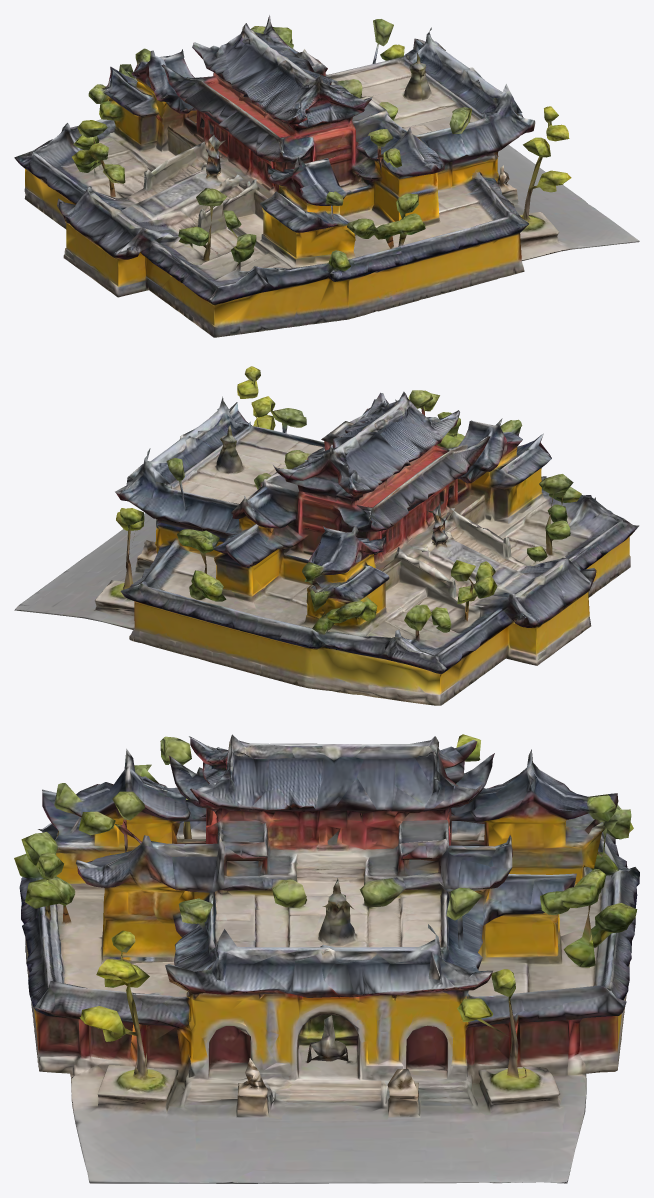
Rendered from preview.8a3168870452.glb.
The picture shows the model from 3 angles, top to bottom: view 1: azimuth 30°, elevation 25°; view 2: azimuth 150°, elevation 25°; view 3: azimuth 270°, elevation 25°; orthographic projection. The views are drawn at different scales.
Visible parts, largest first — view 1: tripo_node_9f7cce5a-5ecf-46b5-bb5a-48bcadc0cd12; view 2: tripo_node_9f7cce5a-5ecf-46b5-bb5a-48bcadc0cd12; view 3: tripo_node_9f7cce5a-5ecf-46b5-bb5a-48bcadc0cd12.
Part boxes in pixels (<box>): tripo_node_9f7cce5a-5ecf-46b5-bb5a-48bcadc0cd12: <box>14,15,639,337</box>; tripo_node_9f7cce5a-5ecf-46b5-bb5a-48bcadc0cd12: <box>14,366,639,705</box>; tripo_node_9f7cce5a-5ecf-46b5-bb5a-48bcadc0cd12: <box>14,734,639,1183</box>.
Size of the model in its own units: 0.9825 by 0.3931 by 0.8281.
1 material, 1 textured.
